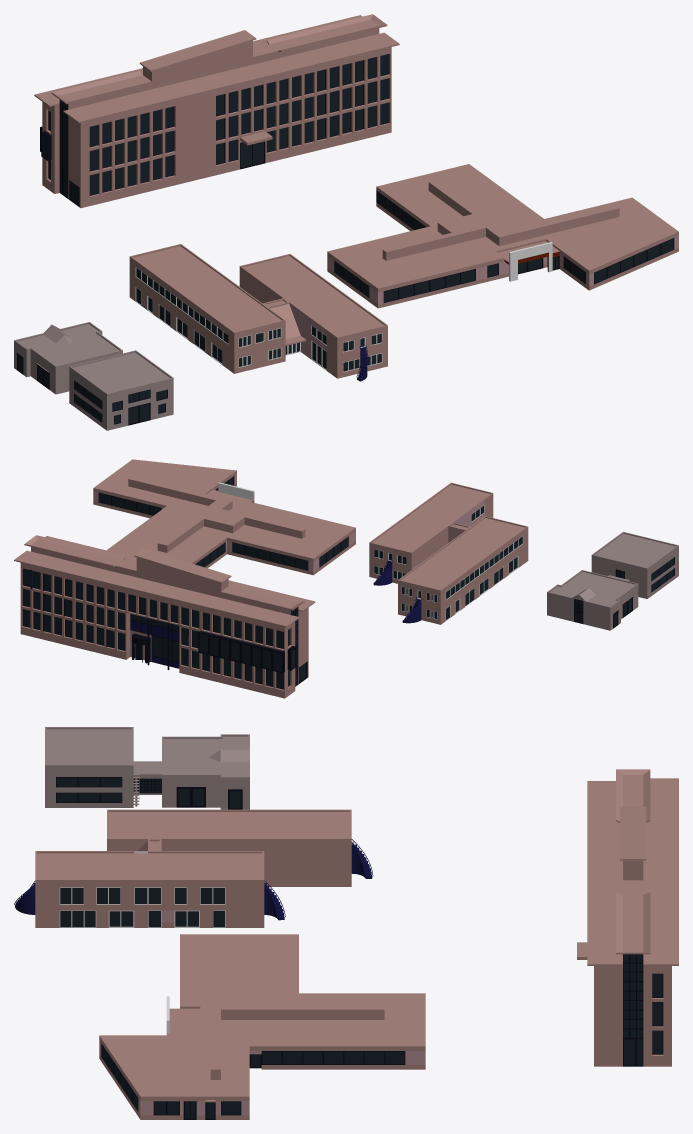
The model's file is Zernikepark.fbx.
3 views of the same model, one above another, from view 1: azimuth 30°, elevation 25°; view 2: azimuth 150°, elevation 25°; view 3: azimuth 270°, elevation 25° (orthographic). The views are drawn at different scales.
Visible parts, largest first — view 1: Box004, Box003, Box001, Box002; view 2: Box004, Box003, Box001, Box002; view 3: Box003, Box001, Box004, Box002.
Boxes of the visible parts, x1,y1,x2,y2 form: Box004: (34, 14, 399, 208); Box003: (327, 164, 678, 308); Box001: (129, 244, 387, 381); Box002: (14, 322, 173, 430); Box004: (14, 535, 315, 698); Box003: (93, 459, 355, 575); Box001: (369, 482, 528, 624); Box002: (547, 532, 678, 630); Box003: (99, 934, 425, 1119); Box001: (14, 809, 373, 927); Box004: (577, 769, 678, 1066); Box002: (45, 727, 249, 809).
Bounding box in the file's own units: 579 × 104 × 459.
